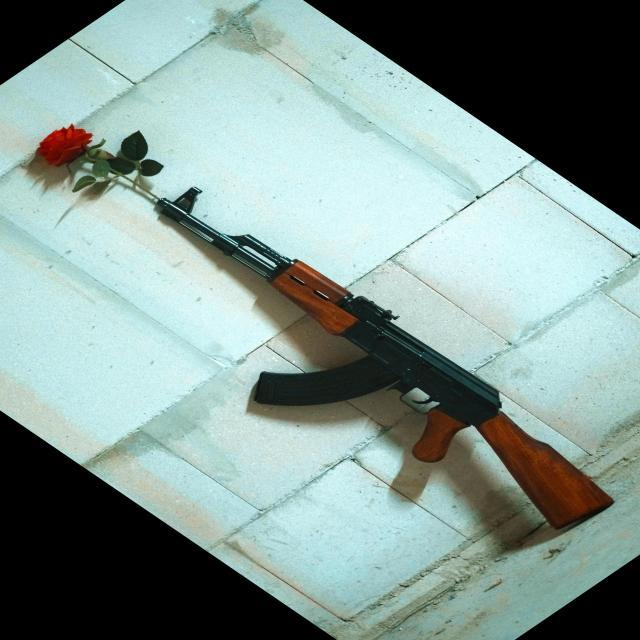weapon: (152, 184, 616, 531)
